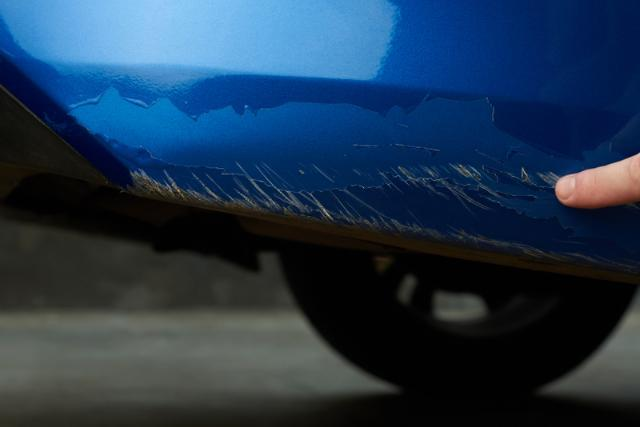Bumper: (109, 107, 625, 269)
